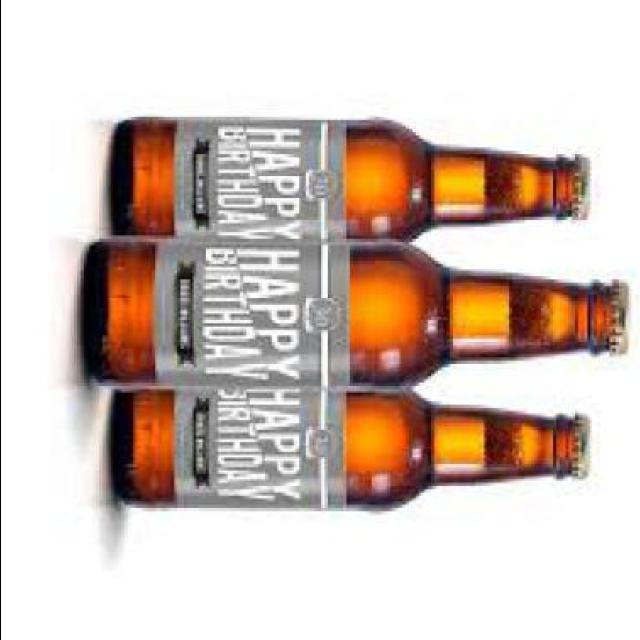kaca: (88, 238, 611, 386), (113, 113, 578, 239), (120, 390, 578, 504)
